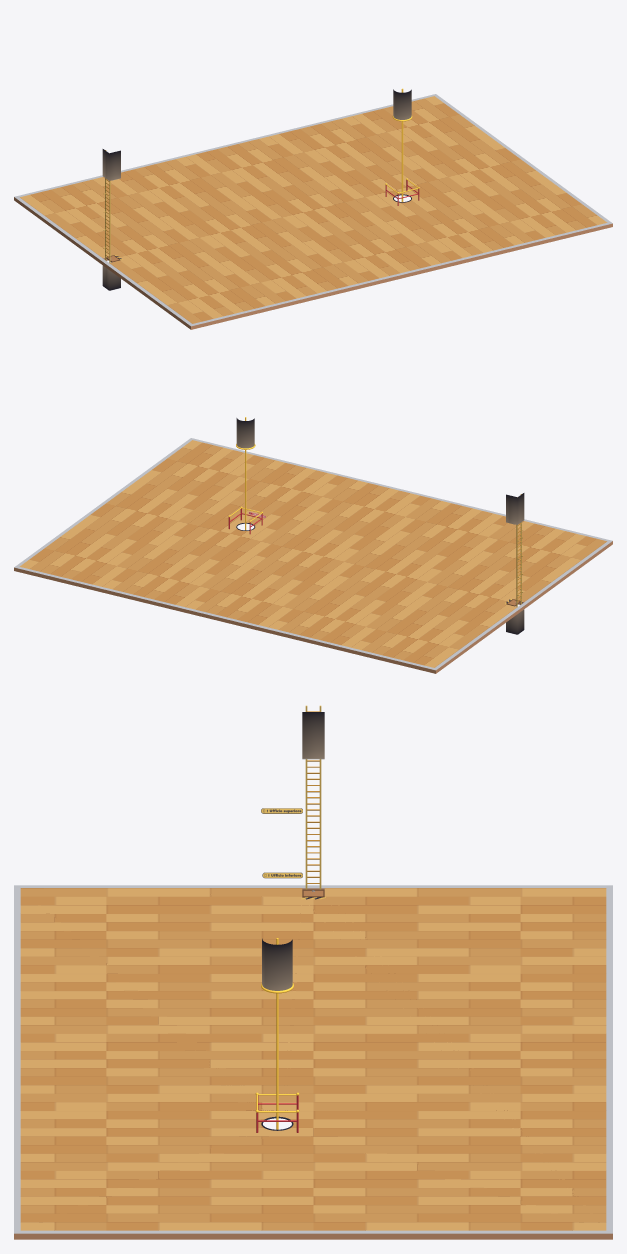
The model's file is collegamenti_intermedio.glb.
3 renders of one model, top to bottom at view 1: azimuth 30°, elevation 25°; view 2: azimuth 150°, elevation 25°; view 3: azimuth 270°, elevation 25°, orthographic. The views are drawn at different scales.
Visible parts, largest first — view 1: Collegamenti_intermedio, pole, ladder; view 2: Collegamenti_intermedio, pole, ladder; view 3: Collegamenti_intermedio, pole, ladder.
Part boxes in pixels (x1=…): Collegamenti_intermedio: x1=14, y1=94, x2=612, y2=329; pole: x1=385, y1=88, x2=419, y2=205; ladder: x1=103, y1=150, x2=122, y2=262; Collegamenti_intermedio: x1=14, y1=438, x2=612, y2=673; pole: x1=228, y1=417, x2=265, y2=534; ladder: x1=505, y1=494, x2=523, y2=606; Collegamenti_intermedio: x1=14, y1=712, x2=612, y2=1239; pole: x1=255, y1=938, x2=299, y2=1132; ladder: x1=301, y1=705, x2=325, y2=899.
Size of the model in its own units: 36.6 by 11.4 by 26.6.
25 materials, 5 textured.
